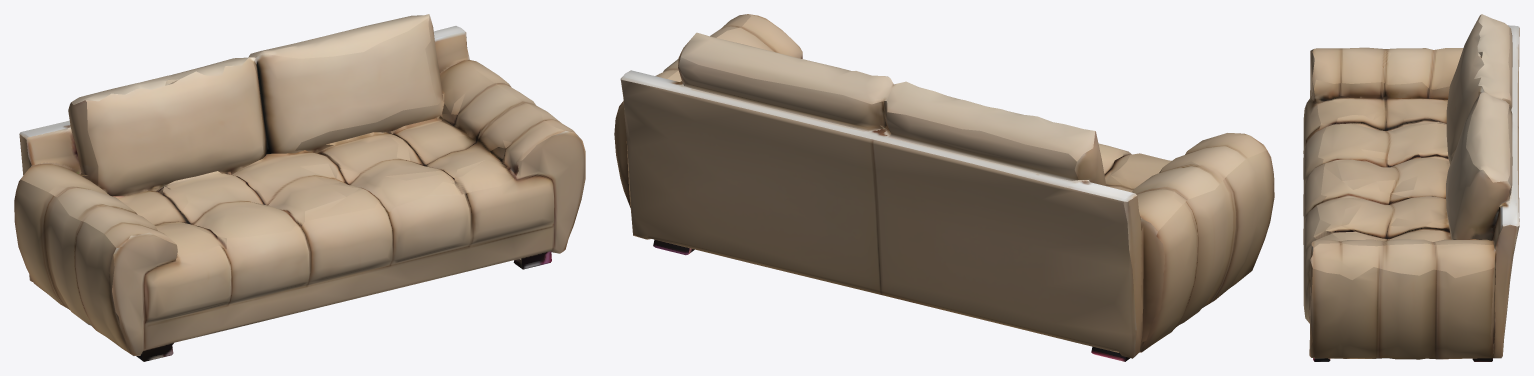
Rendered from Canape2_3D_textured.glb.
3 views of the same model, side by side, from view 1: azimuth 30°, elevation 25°; view 2: azimuth 150°, elevation 25°; view 3: azimuth 270°, elevation 25° (orthographic). The views are drawn at different scales.
Parts seen in each view (by area): view 1: temp_mesh.ply; view 2: temp_mesh.ply; view 3: temp_mesh.ply.
Part boxes in pixels (left/top/right/bottom): temp_mesh.ply: left=14, top=14, right=585, bottom=361; temp_mesh.ply: left=614, top=14, right=1274, bottom=361; temp_mesh.ply: left=1303, top=14, right=1519, bottom=361.
Size of the model in its own units: 1.97 by 0.7569 by 0.8224.
Materials: 1 (1 with a texture image).
